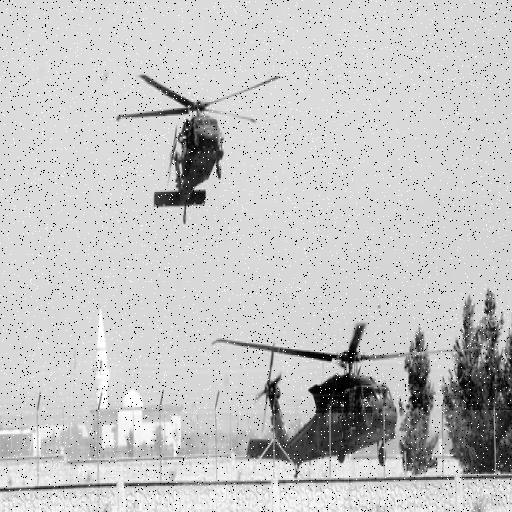helicopter: (205, 281, 481, 478), (107, 53, 290, 223)
